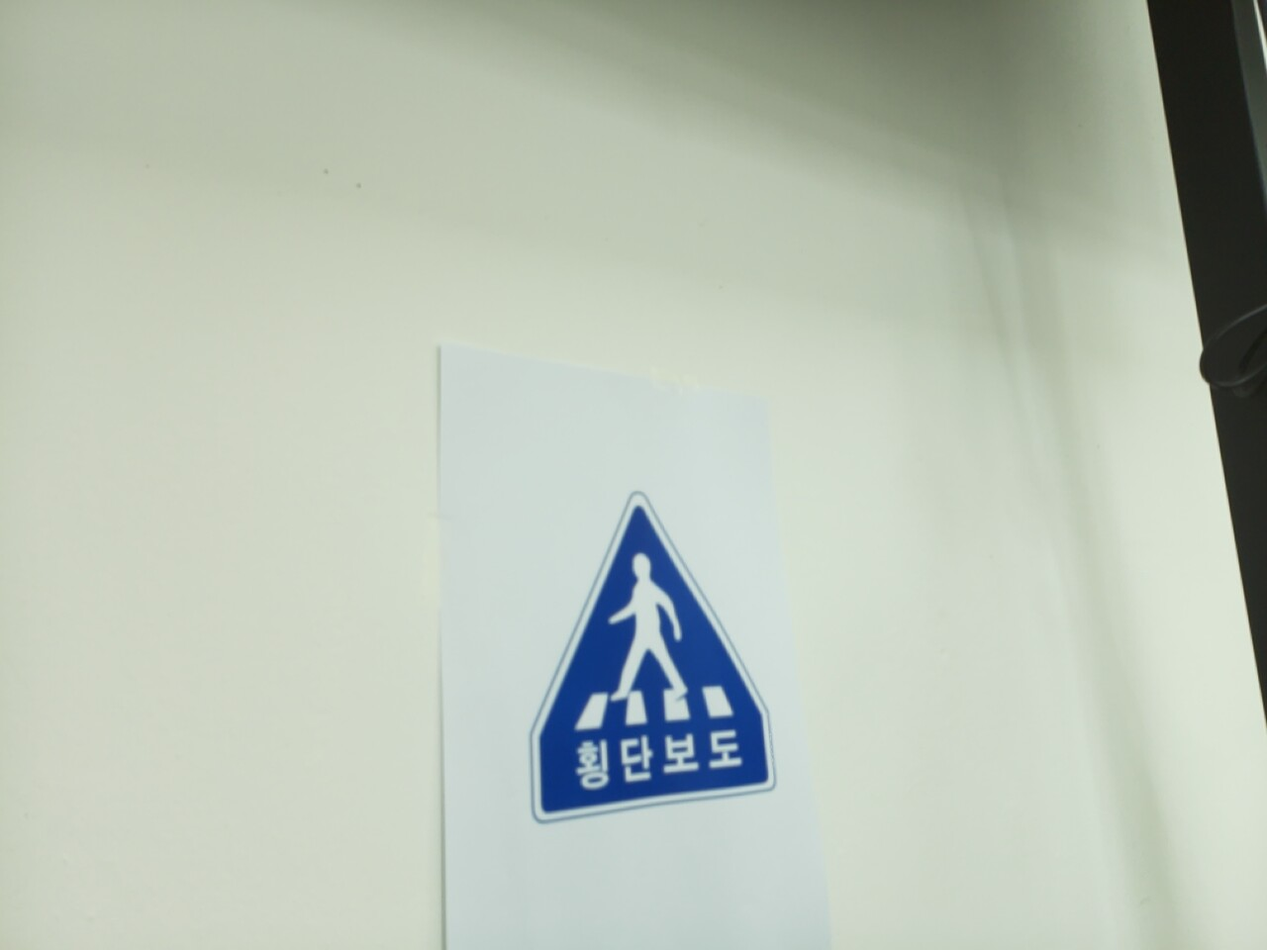crosswalk: (532, 496, 776, 823)
